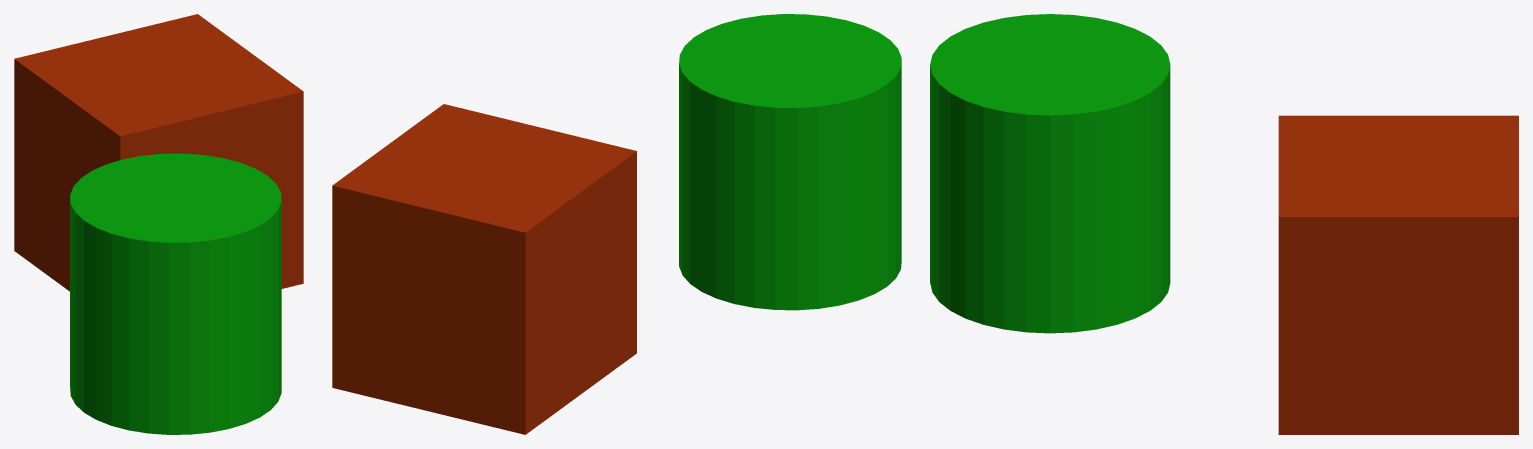
The model's file is multipleobjs.obj.
3 renders of one model, left to right at view 1: azimuth 30°, elevation 25°; view 2: azimuth 150°, elevation 25°; view 3: azimuth 270°, elevation 25°, orthographic. The views are drawn at different scales.
Visible parts, largest first — view 1: Cylinder, Cube; view 2: Cube, Cylinder; view 3: Cube, Cylinder.
Boxes of the visible parts, x1,y1,x2,y2 form: Cylinder: (70,153,281,434); Cube: (14,14,303,291); Cube: (332,104,636,434); Cylinder: (679,14,901,310); Cube: (1278,115,1518,434); Cylinder: (930,14,1170,333).
Bounding box in the file's own units: 3.49 × 2.24 × 4.9.
